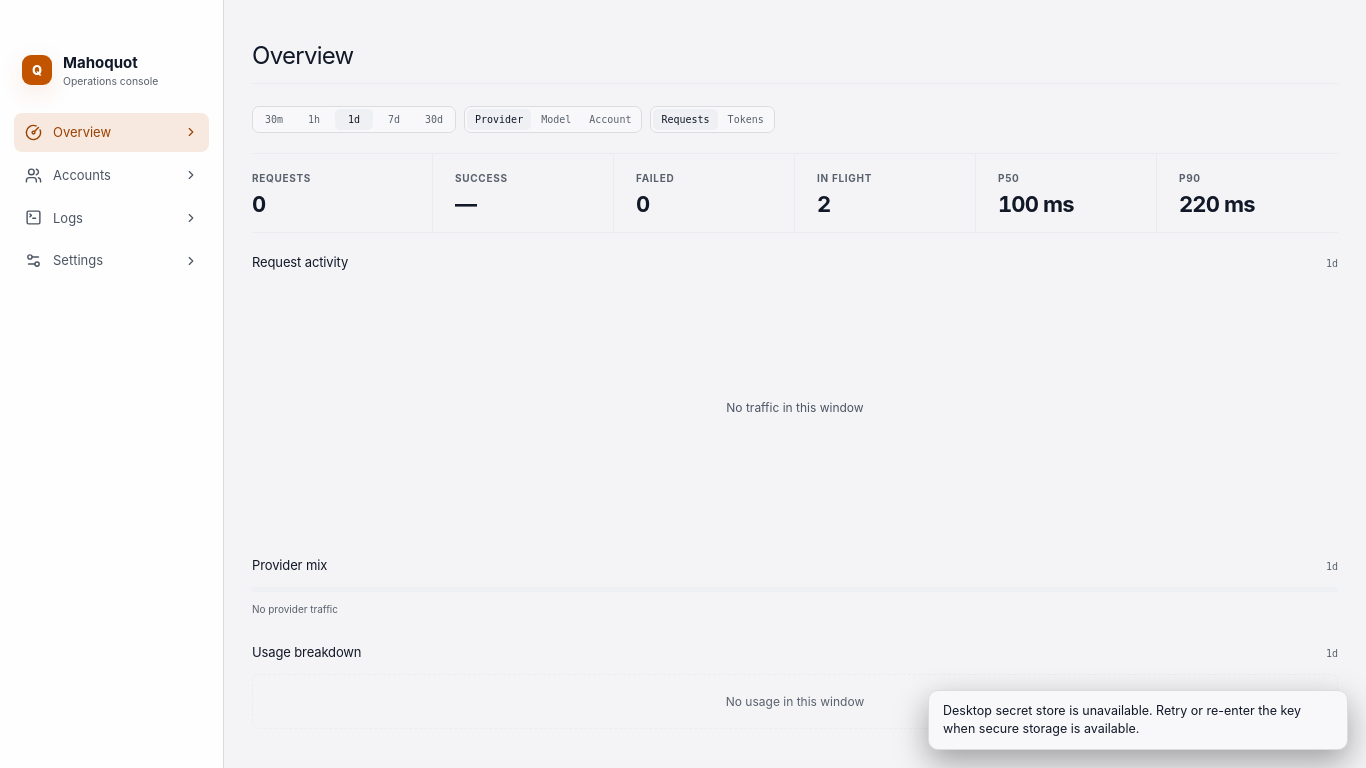
Scenario: operations console › R10 falls back when the stored provider no longer exists
Click the button "Accounts": (112, 175) [14, 156, 209, 194]
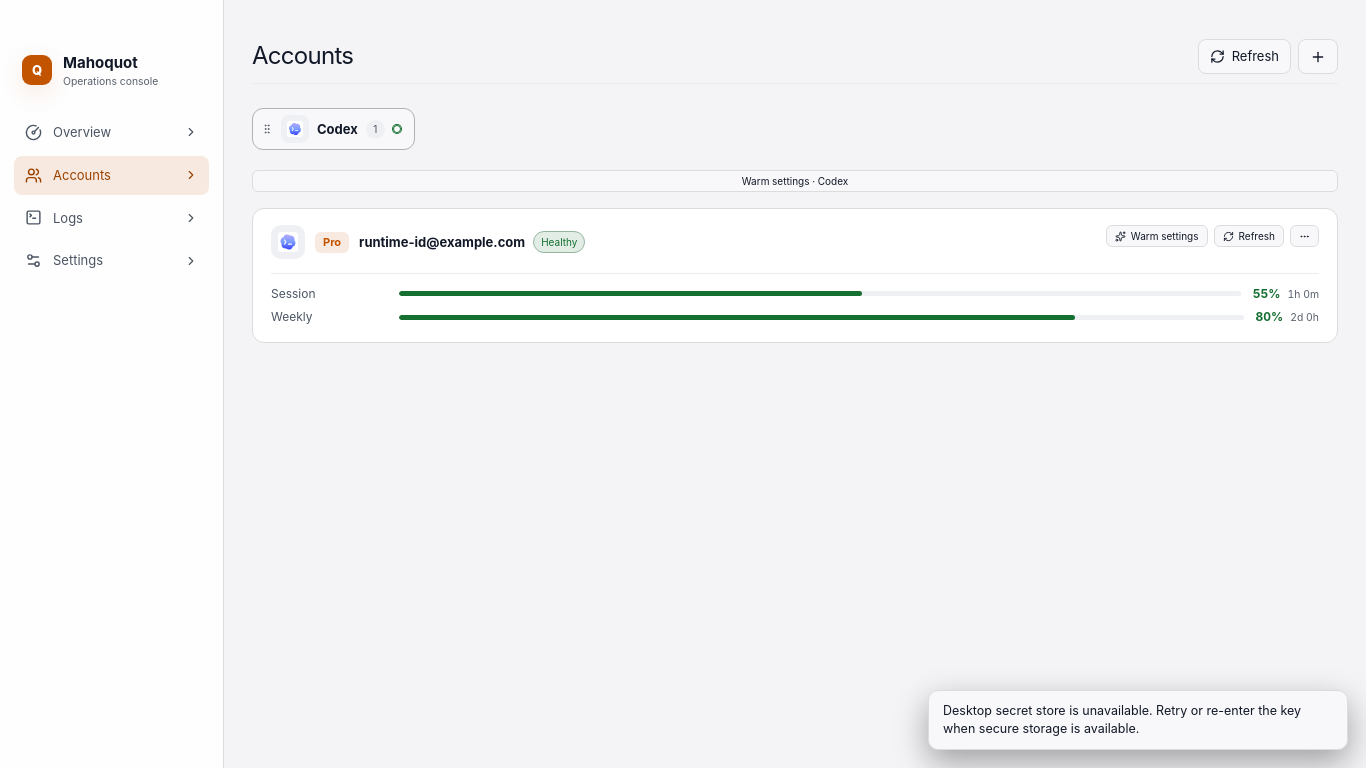
Now the radio button with aria-label "Codex 1 account" is checked, box [252, 108, 415, 150]
Now the number of elements with class "account-card" is 1, box [252, 208, 1338, 343]
